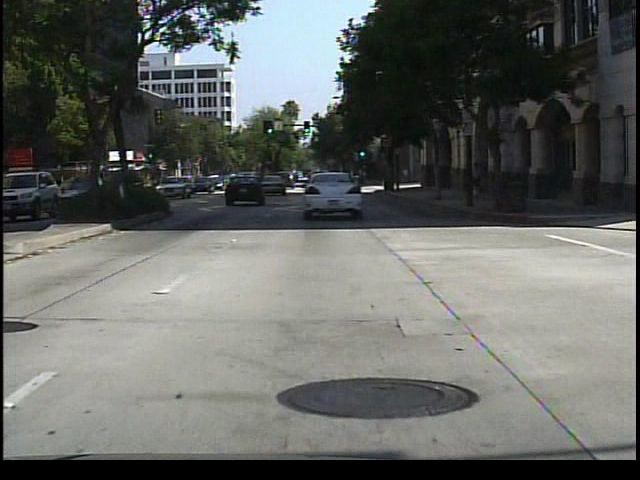person: (473, 159, 478, 205)
